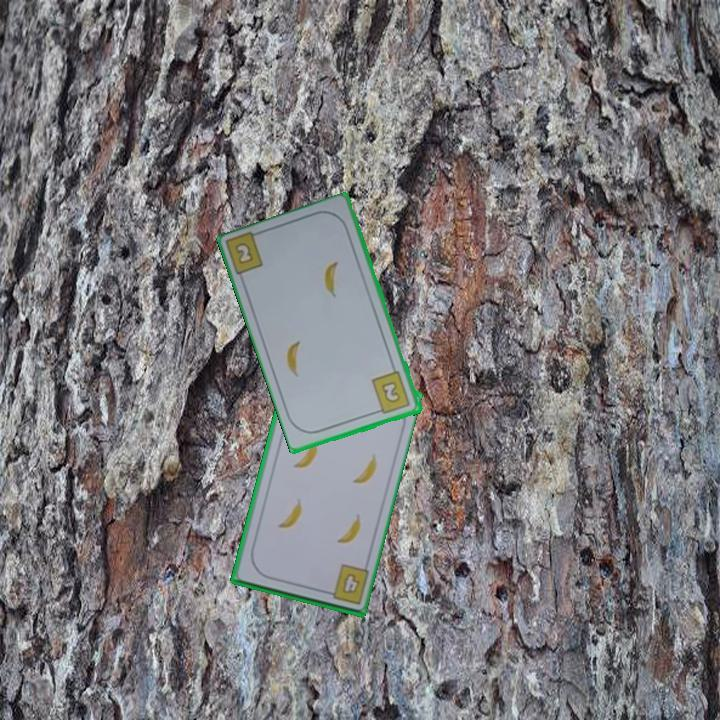2b: (368, 368, 413, 417), (233, 241, 257, 267)
4b: (320, 561, 371, 608)
